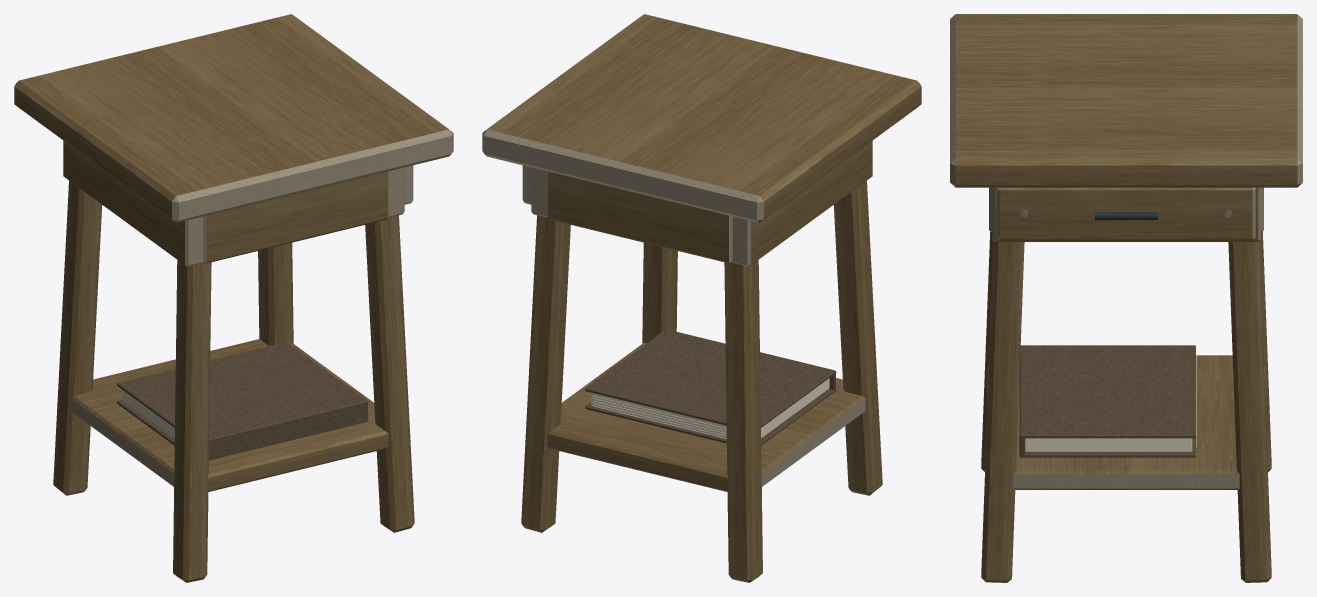
3 renders of one model, left to right at view 1: azimuth 30°, elevation 25°; view 2: azimuth 150°, elevation 25°; view 3: azimuth 270°, elevation 25°, orthographic. The views are drawn at different scales.
Parts seen in each view (by area): view 1: Mesh_warm, Mesh_leather, Mesh_endgrain, Mesh_paper; view 2: Mesh_warm, Mesh_leather, Mesh_endgrain, Mesh_paper; view 3: Mesh_warm, Mesh_leather, Mesh_endgrain, Mesh_paper, Mesh_iron.
Boxes of the visible parts, box(x1,y1,x2,y2) form: Mesh_warm: box(14, 14, 448, 582); Mesh_leather: box(117, 342, 368, 460); Mesh_endgrain: box(15, 83, 453, 486); Mesh_paper: box(123, 390, 174, 437); Mesh_warm: box(487, 14, 921, 582); Mesh_leather: box(585, 329, 836, 445); Mesh_endgrain: box(482, 83, 920, 486); Mesh_paper: box(591, 378, 829, 438); Mesh_warm: box(955, 14, 1297, 582); Mesh_leather: box(1019, 345, 1195, 457); Mesh_endgrain: box(950, 14, 1302, 488); Mesh_paper: box(1025, 355, 1196, 451); Mesh_iron: box(1095, 212, 1157, 219).
Size of the model in its own units: 0.38 by 0.5208 by 0.38.
5 materials, 3 textured.
